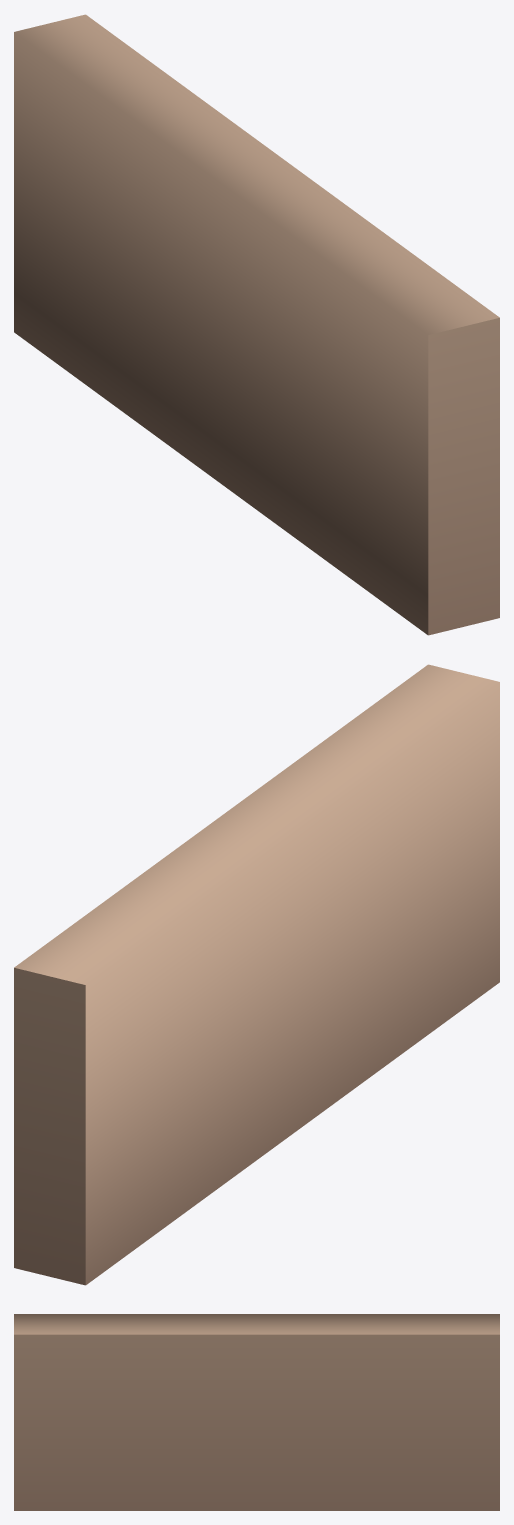
File: baseboard-basic-half (%wall).glb
3 renders of one model, top to bottom at view 1: azimuth 30°, elevation 25°; view 2: azimuth 150°, elevation 25°; view 3: azimuth 270°, elevation 25°, orthographic. The views are drawn at different scales.
Visible parts, largest first — view 1: baseboard-basic-half (%wall); view 2: baseboard-basic-half (%wall); view 3: baseboard-basic-half (%wall).
Boxes of the visible parts, bbox=[...] form: baseboard-basic-half (%wall): bbox=[14, 14, 499, 635]; baseboard-basic-half (%wall): bbox=[14, 664, 499, 1285]; baseboard-basic-half (%wall): bbox=[14, 1314, 499, 1510].
Bounding box in the file's own units: 0.05 × 0.2 × 0.5.
